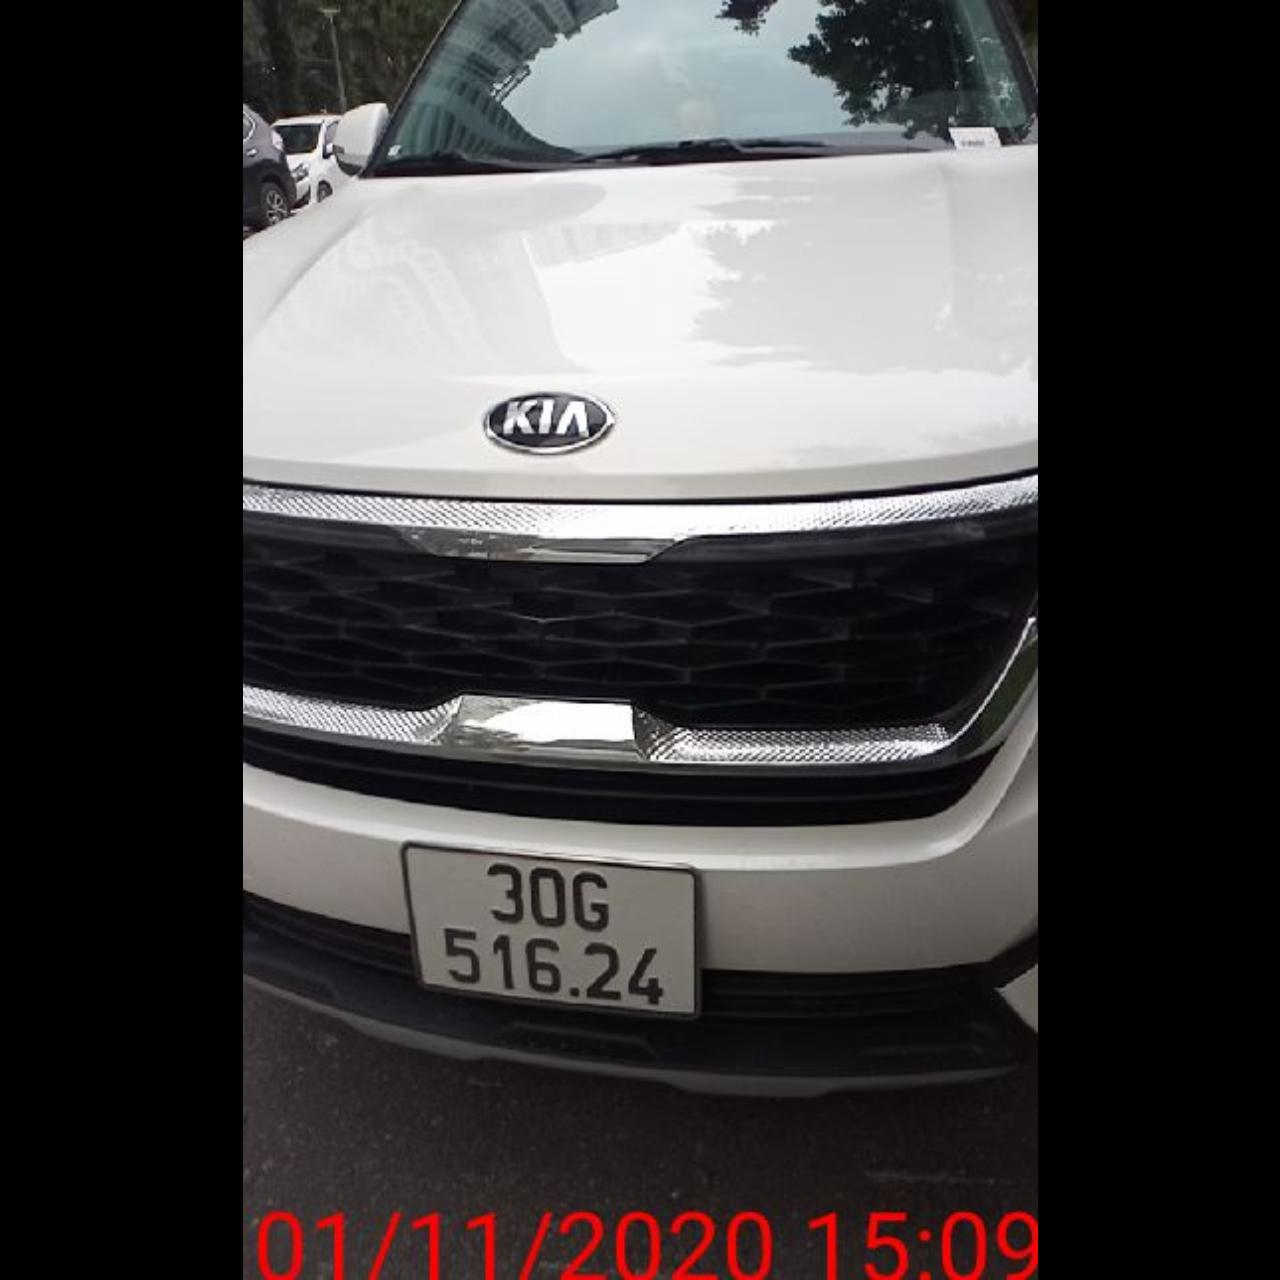bienso: (396, 838, 704, 1022)
